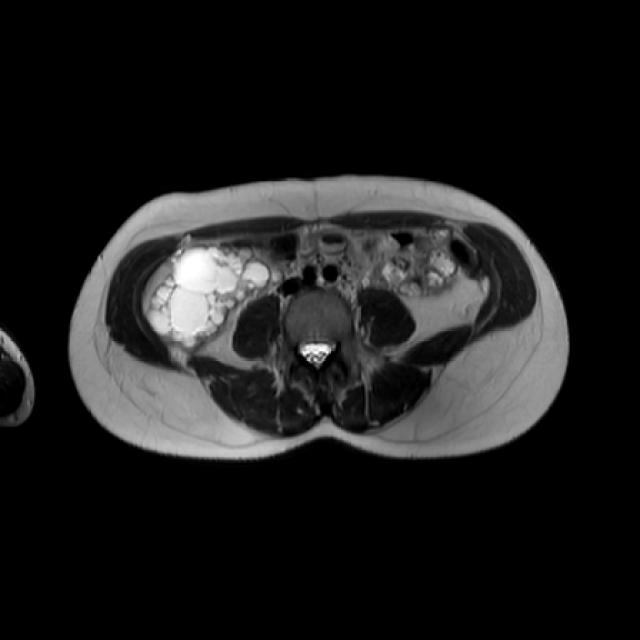sag: (149, 242, 286, 346)
